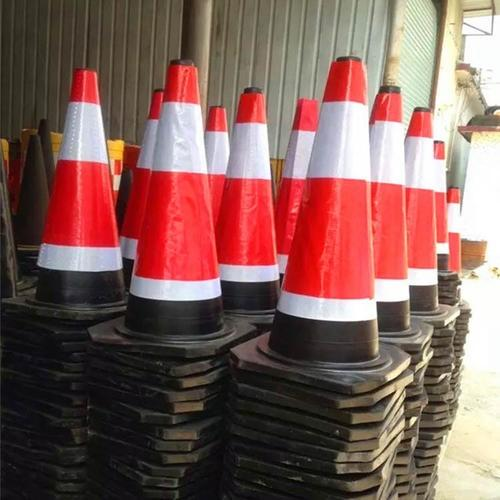cone_barrel: (264, 63, 391, 374), (123, 68, 230, 344), (35, 72, 126, 316), (214, 86, 282, 309), (360, 80, 404, 330), (400, 110, 448, 314)
